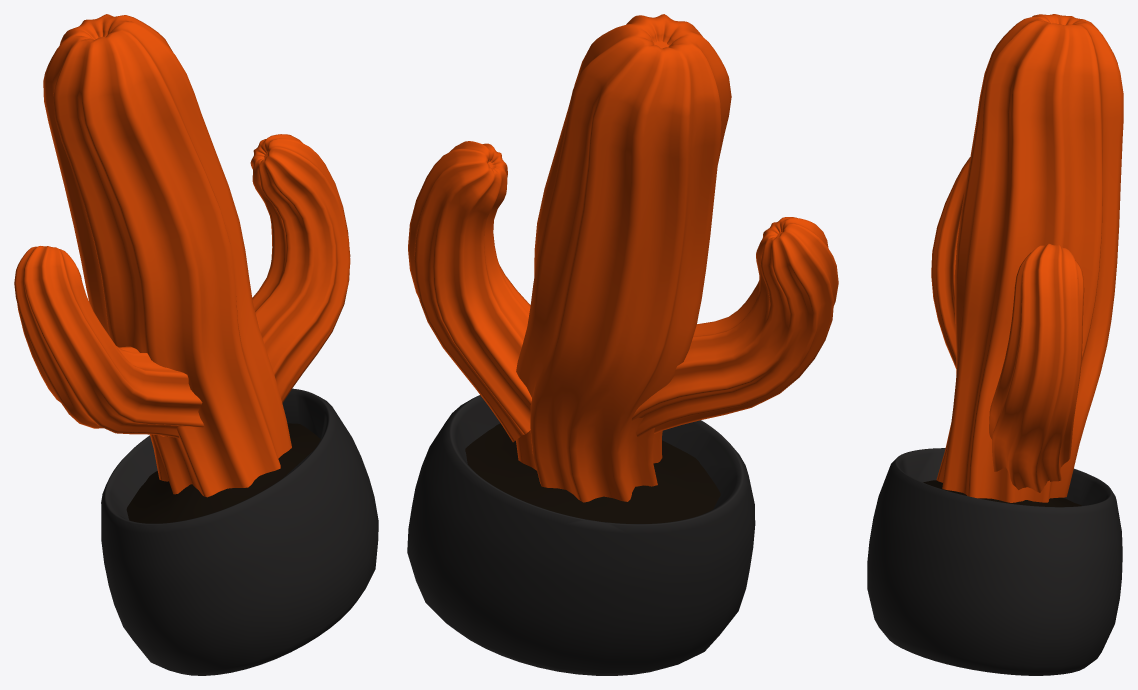
File: asset4.glb
3 views of the same model, side by side, from view 1: azimuth 30°, elevation 25°; view 2: azimuth 150°, elevation 25°; view 3: azimuth 270°, elevation 25° (orthographic). The views are drawn at different scales.
Visible parts, largest first — view 1: cacti1, Pot, cacti2, cacti3, dirtBase; view 2: cacti1, Pot, cacti3, cacti2, dirtBase; view 3: cacti1, Pot, cacti3, cacti2, dirtBase.
Part boxes in pixels (left/top/right/bottom): cacti1: left=43, top=14, right=291, bottom=497; Pot: left=101, top=388, right=378, bottom=675; cacti2: left=14, top=246, right=204, bottom=438; cacti3: left=250, top=134, right=350, bottom=402; dirtBase: left=126, top=423, right=320, bottom=523; cacti1: left=516, top=14, right=731, bottom=502; Pot: left=407, top=395, right=755, bottom=675; cacti3: left=408, top=141, right=531, bottom=442; cacti2: left=632, top=217, right=838, bottom=437; dirtBase: left=465, top=423, right=720, bottom=523; cacti1: left=936, top=14, right=1123, bottom=502; Pot: left=867, top=448, right=1122, bottom=675; cacti3: left=989, top=243, right=1084, bottom=492; cacti2: left=931, top=157, right=970, bottom=368; dirtBase: left=923, top=480, right=1081, bottom=507.
Bounding box in the file's own units: 1.06 × 1.74 × 0.6742.
